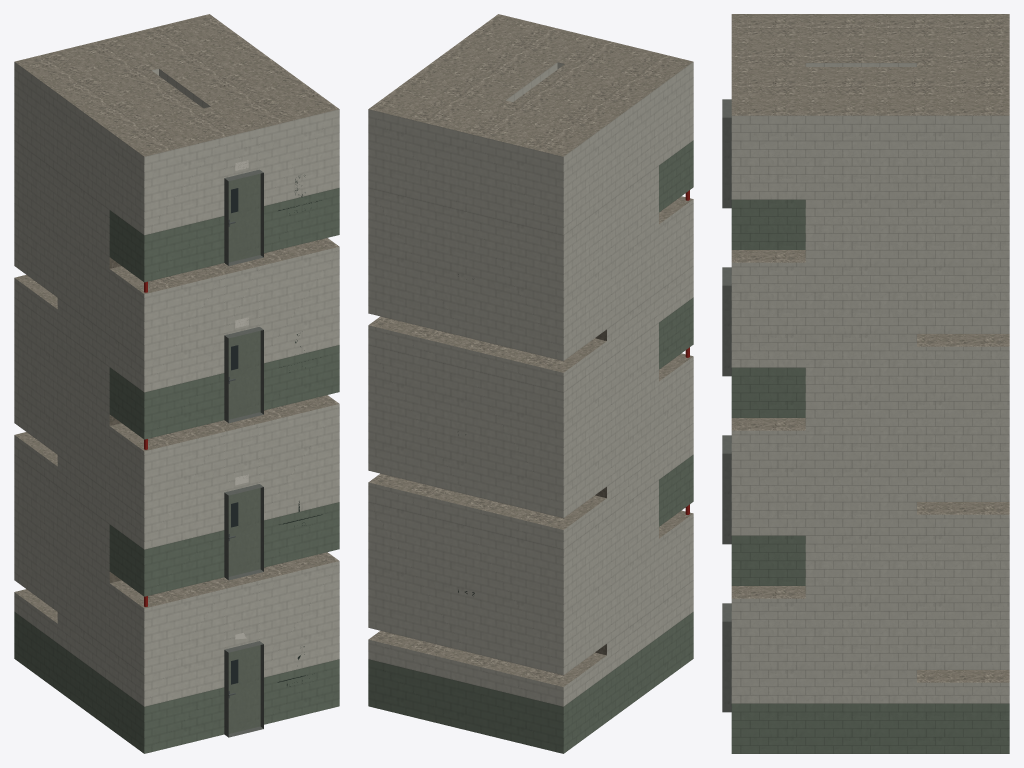
File: other_stairs.glb
3 renders of one model, left to right at view 1: azimuth 30°, elevation 25°; view 2: azimuth 150°, elevation 25°; view 3: azimuth 270°, elevation 25°, orthographic. The views are drawn at different scales.
Parts seen in each view (by area): view 1: Stair_Paint.001, Stair_Dado.001, Stair_Ceiling.001, Door_Jamb.001, DoorLeaf_atrium_L4, DoorLeaf_atrium_L8, DoorLeaf_atrium_L12, DoorLeaf_atrium_L0; view 2: Stair_Paint.001, Stair_Ceiling.001, Stair_Dado.001; view 3: Stair_Paint.001, Stair_Ceiling.001, Stair_Dado.001, Door_Jamb.001.
Boxes of the visible parts, bbox=[...] form: Stair_Paint.001: bbox=[14, 62, 339, 706]; Stair_Dado.001: bbox=[14, 188, 339, 753]; Stair_Ceiling.001: bbox=[15, 14, 339, 623]; Door_Jamb.001: bbox=[224, 169, 263, 737]; DoorLeaf_atrium_L4: bbox=[228, 488, 260, 576]; DoorLeaf_atrium_L8: bbox=[228, 330, 260, 419]; DoorLeaf_atrium_L12: bbox=[228, 173, 260, 262]; DoorLeaf_atrium_L0: bbox=[228, 645, 260, 733]; Stair_Paint.001: bbox=[368, 62, 693, 706]; Stair_Ceiling.001: bbox=[368, 14, 693, 686]; Stair_Dado.001: bbox=[368, 140, 693, 753]; Stair_Paint.001: bbox=[731, 63, 1009, 703]; Stair_Ceiling.001: bbox=[731, 14, 1009, 682]; Stair_Dado.001: bbox=[731, 199, 1009, 753]; Door_Jamb.001: bbox=[722, 99, 731, 712].
Bounding box in the file's own units: 5.2 × 15.2 × 6.2.
21 materials, 11 textured.
